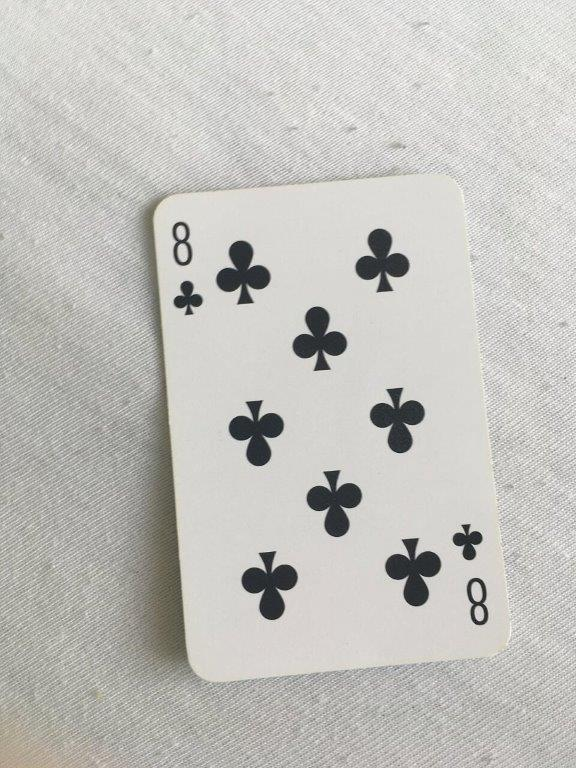8C: (148, 170, 516, 689)
